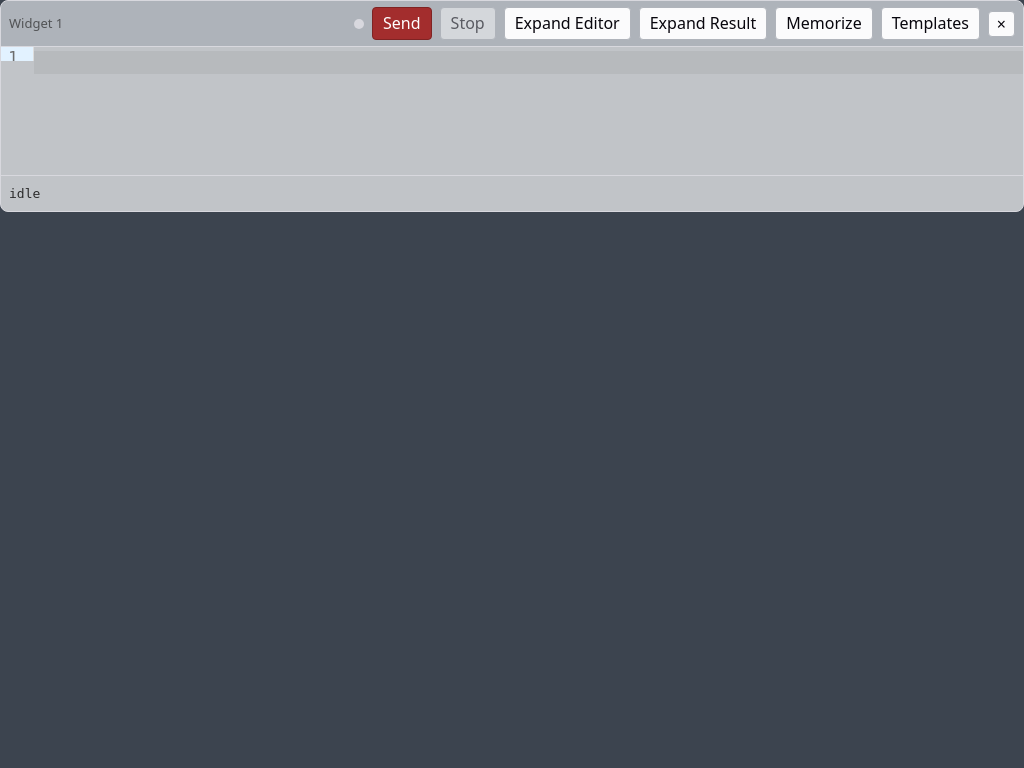
Widget › opens an in-page naming dialog when Memorize is clicked (not window.prompt)
Click the button "Memorize" at point(824, 24), box [775,7,873,40]
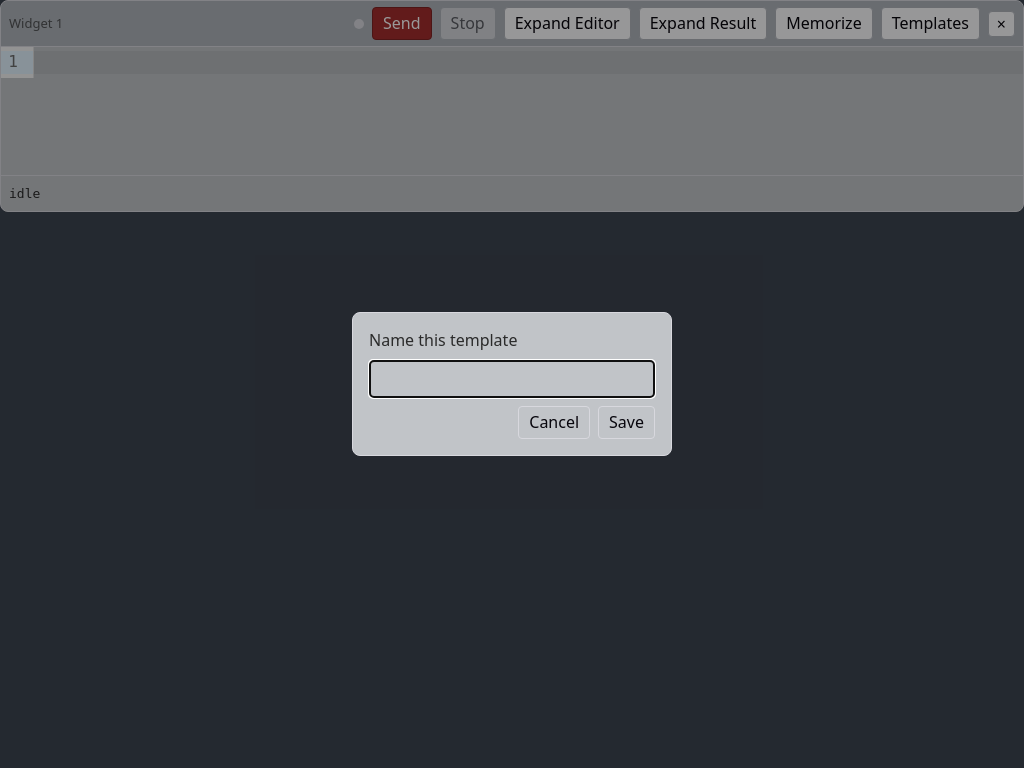
Expected: the field labelled "Name this template" is shown, [369,360,655,398]
